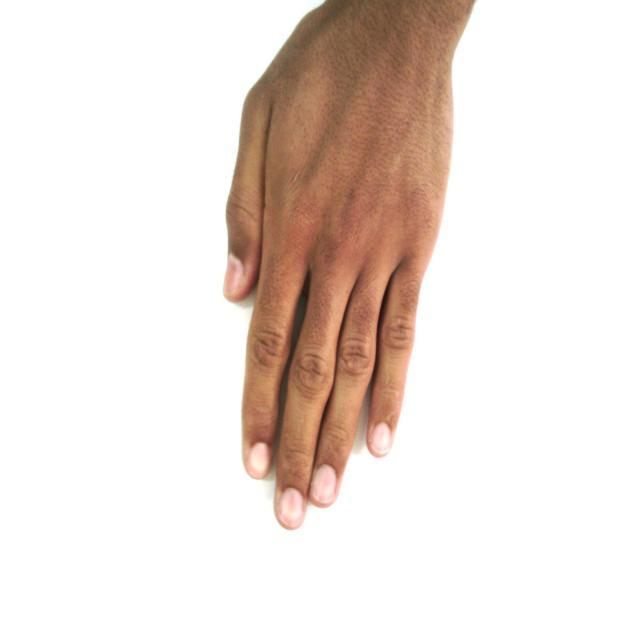Fingernail: (280, 488, 304, 527), (311, 465, 335, 503), (223, 255, 243, 293), (249, 443, 270, 476), (370, 423, 390, 453)
